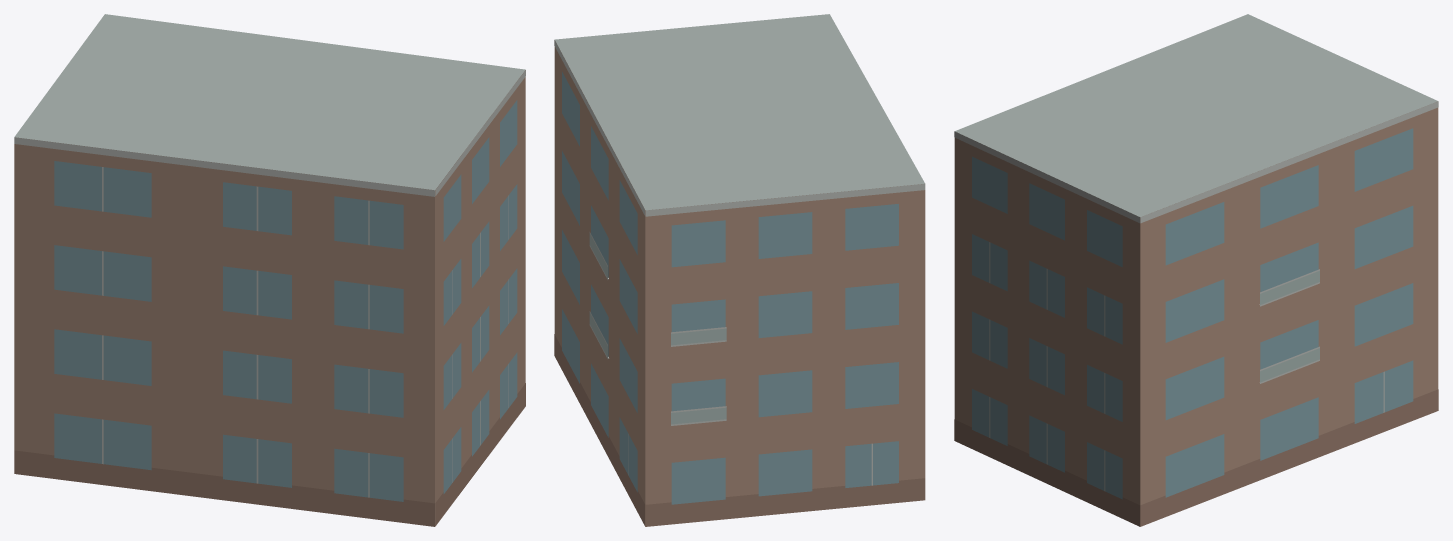
File: survey-upis-32715258.glb
3 renders of one model, left to right at view 1: azimuth 30°, elevation 25°; view 2: azimuth 150°, elevation 25°; view 3: azimuth 270°, elevation 25°, orthographic. The views are drawn at different scales.
Parts seen in each view (by area): view 1: survey-upis-32715258.tmp; view 2: survey-upis-32715258.tmp; view 3: survey-upis-32715258.tmp.
Part boxes in pixels (<box>): survey-upis-32715258.tmp: <box>14,14,525,526</box>; survey-upis-32715258.tmp: <box>554,14,925,526</box>; survey-upis-32715258.tmp: <box>954,14,1438,526</box>.
Bounding box in the file's own units: 17.19 × 12.2 × 17.29.
